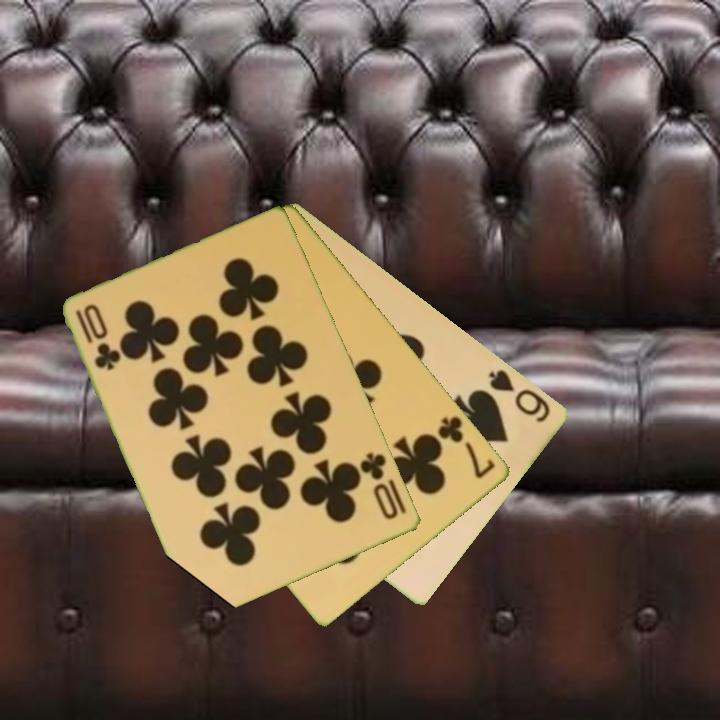10c: (72, 306, 123, 374), (356, 449, 402, 523)
6s: (485, 366, 554, 426)
7c: (434, 412, 499, 482)
